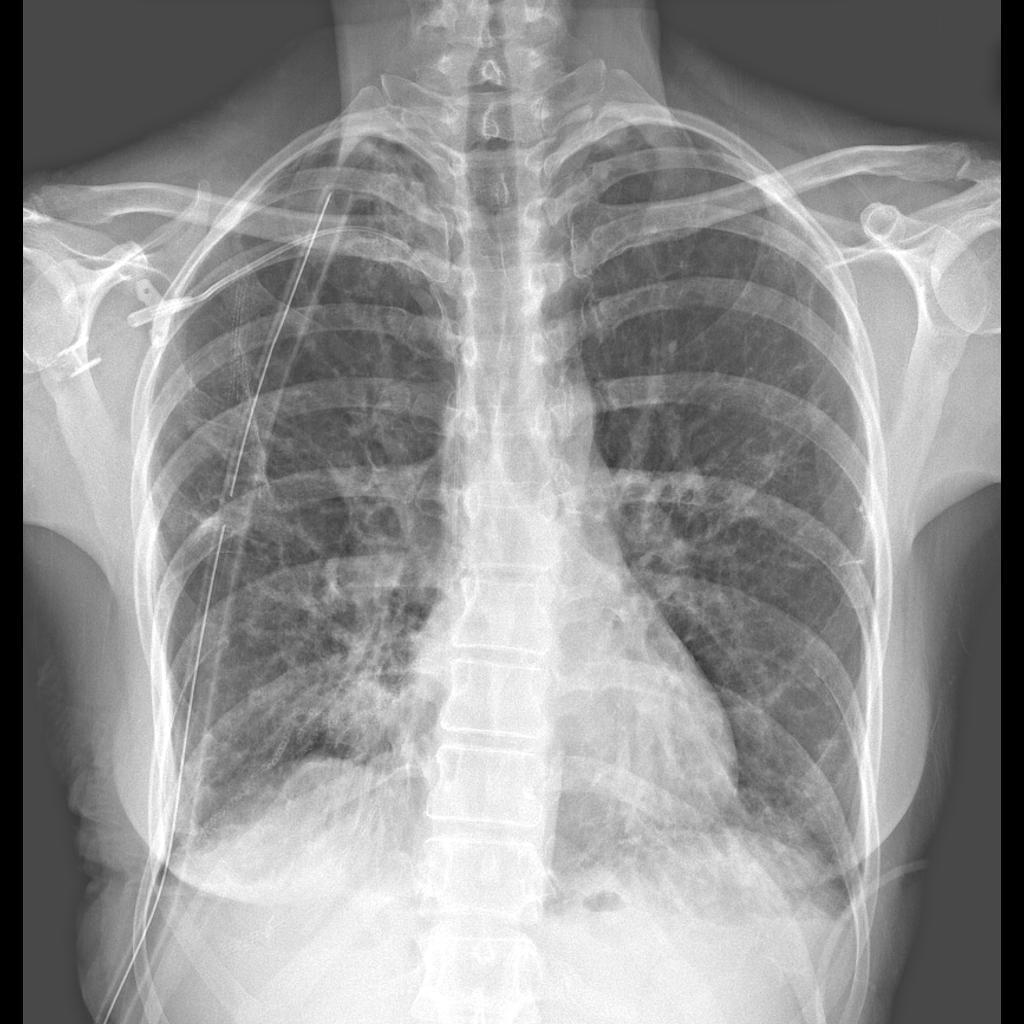Nodule: (322, 672, 400, 764)
